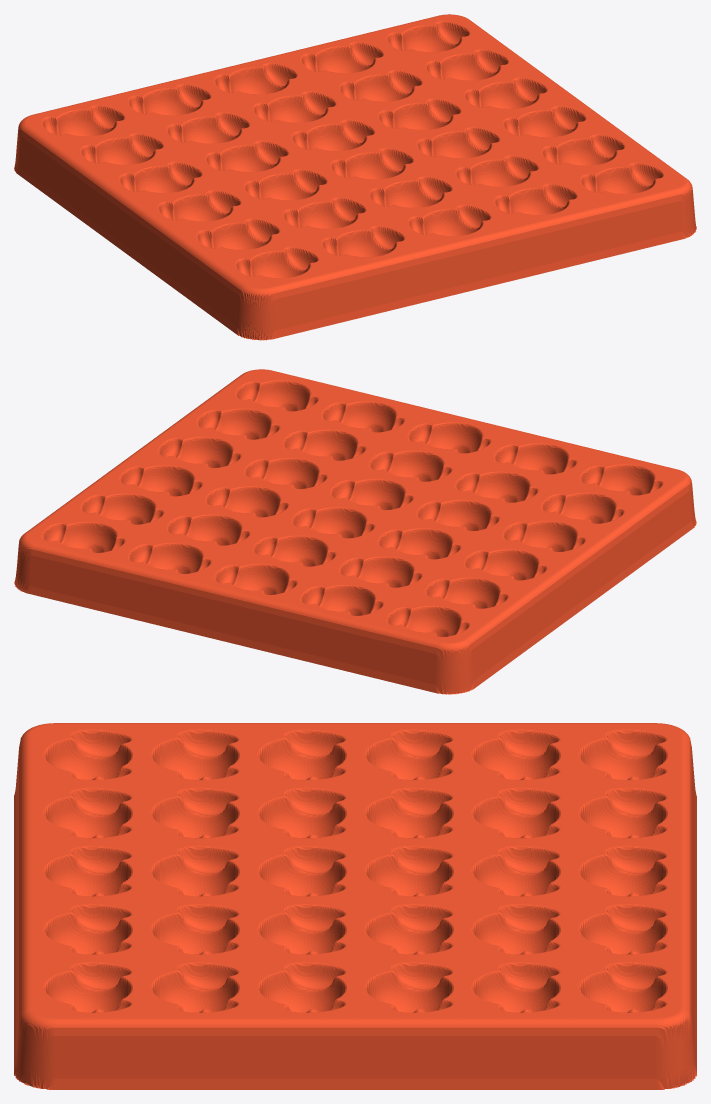
The model's file is mold.glb.
3 renders of one model, top to bottom at view 1: azimuth 30°, elevation 25°; view 2: azimuth 150°, elevation 25°; view 3: azimuth 270°, elevation 25°, orthographic. The views are drawn at different scales.
Visible parts, largest first — view 1: geometry_0; view 2: geometry_0; view 3: geometry_0.
Boxes of the visible parts, box(x1,y1,x2,y2) form: geometry_0: box(14, 14, 696, 340); geometry_0: box(14, 369, 696, 694); geometry_0: box(14, 723, 696, 1089).
Bounding box in the file's own units: 0.1626 × 0.0159 × 0.1524.
